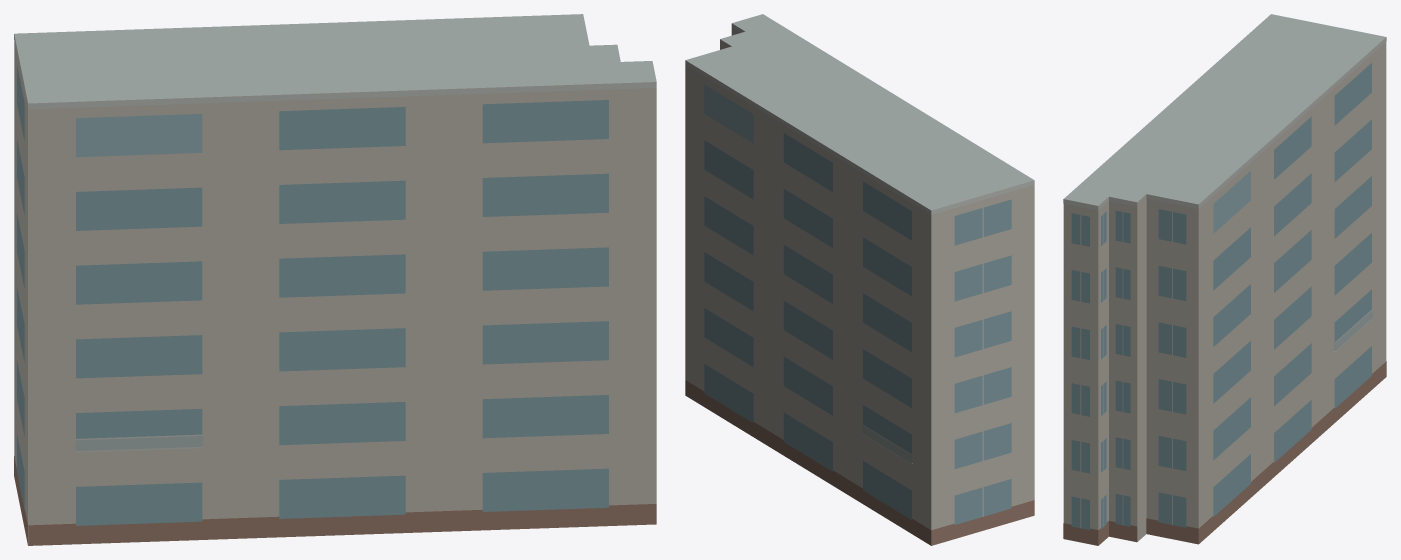
File: survey-upis-32723606.glb
3 renders of one model, left to right at view 1: azimuth 30°, elevation 25°; view 2: azimuth 150°, elevation 25°; view 3: azimuth 270°, elevation 25°, orthographic. The views are drawn at different scales.
Parts seen in each view (by area): view 1: survey-upis-32723606.tmp; view 2: survey-upis-32723606.tmp; view 3: survey-upis-32723606.tmp.
Part boxes in pixels (x1,y1,x2,y2): survey-upis-32723606.tmp: (14, 14, 656, 545); survey-upis-32723606.tmp: (685, 14, 1034, 545); survey-upis-32723606.tmp: (1063, 14, 1386, 545).
Bounding box in the file's own units: 22.17 × 18.3 × 15.77.
